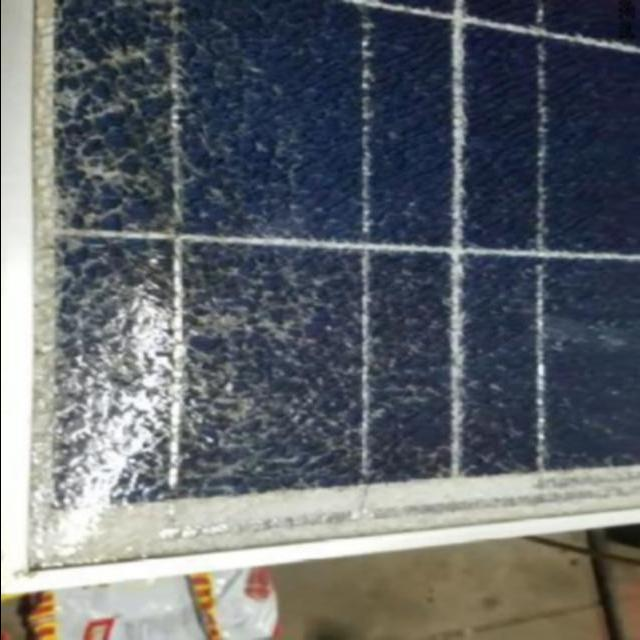cracked: (1, 0, 628, 586)
